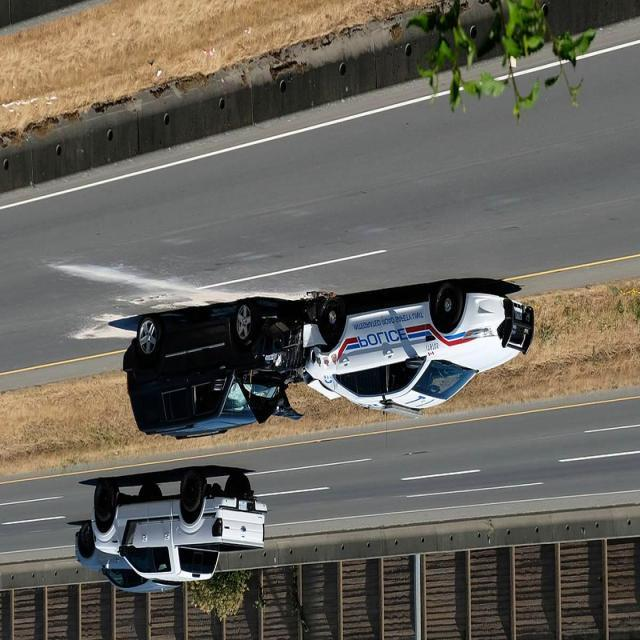moderate: (121, 282, 536, 454)
